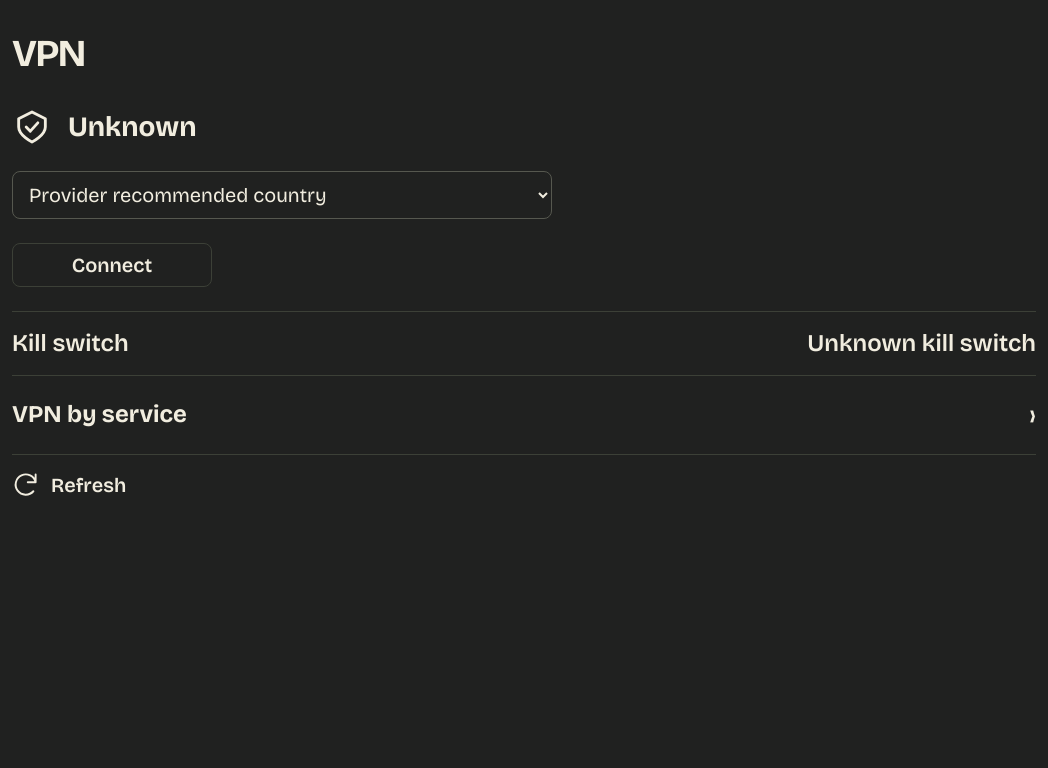
Scenario: keeps connection actions disabled until an operation terminates and exposes failure
The width and height of the screenshot is (1048, 768).
Later steps or results of the test are not shown.
Step 1. Select "Finland" in the dropdown named "VPN country" → (282, 195), box [12, 171, 552, 219]
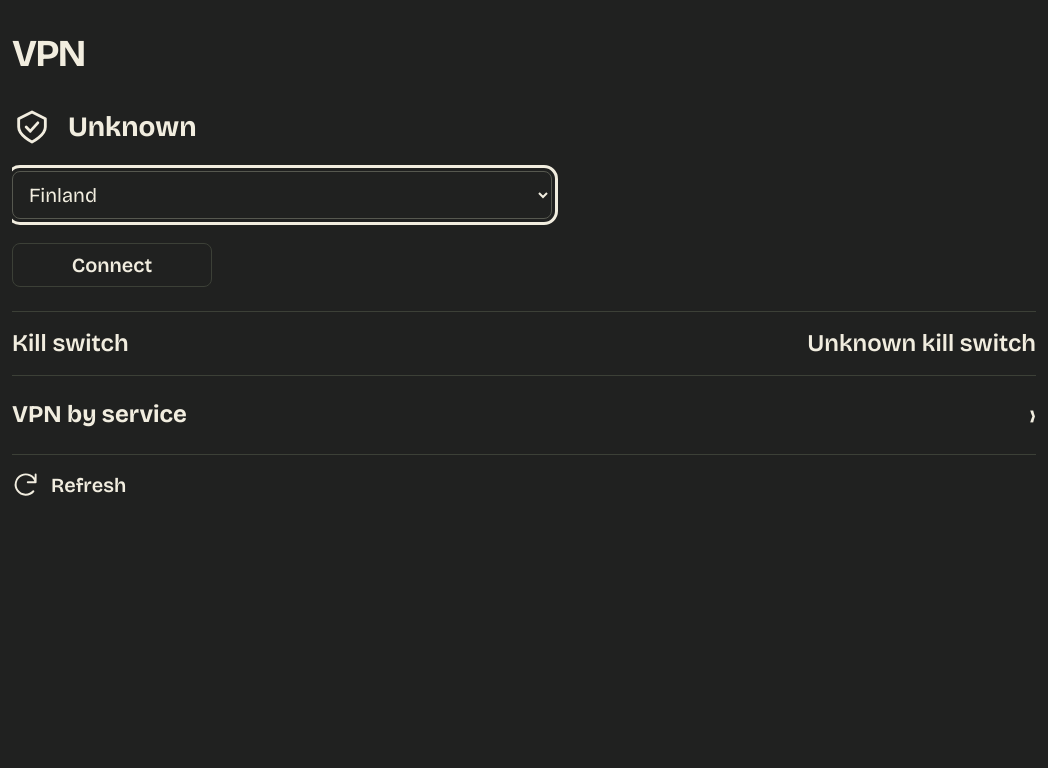
Step 2. Click the button "Connect" → (112, 265), box [12, 243, 212, 287]
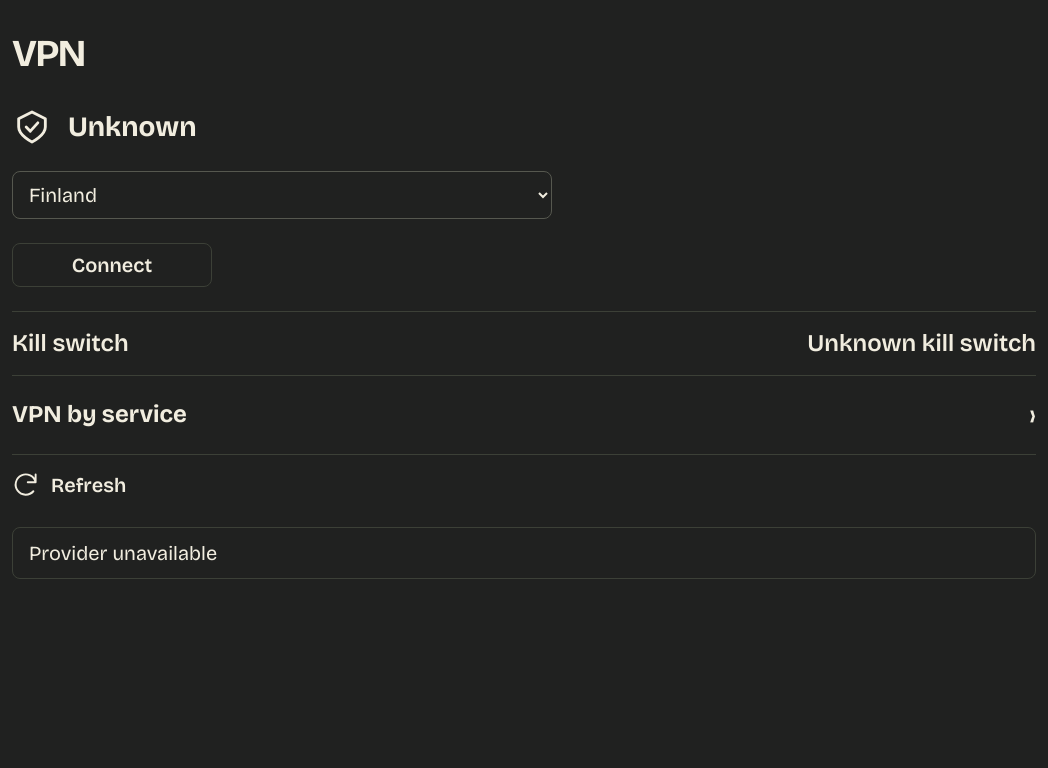
expect the message reads "Provider unavailable": met, box [29, 541, 217, 565]
